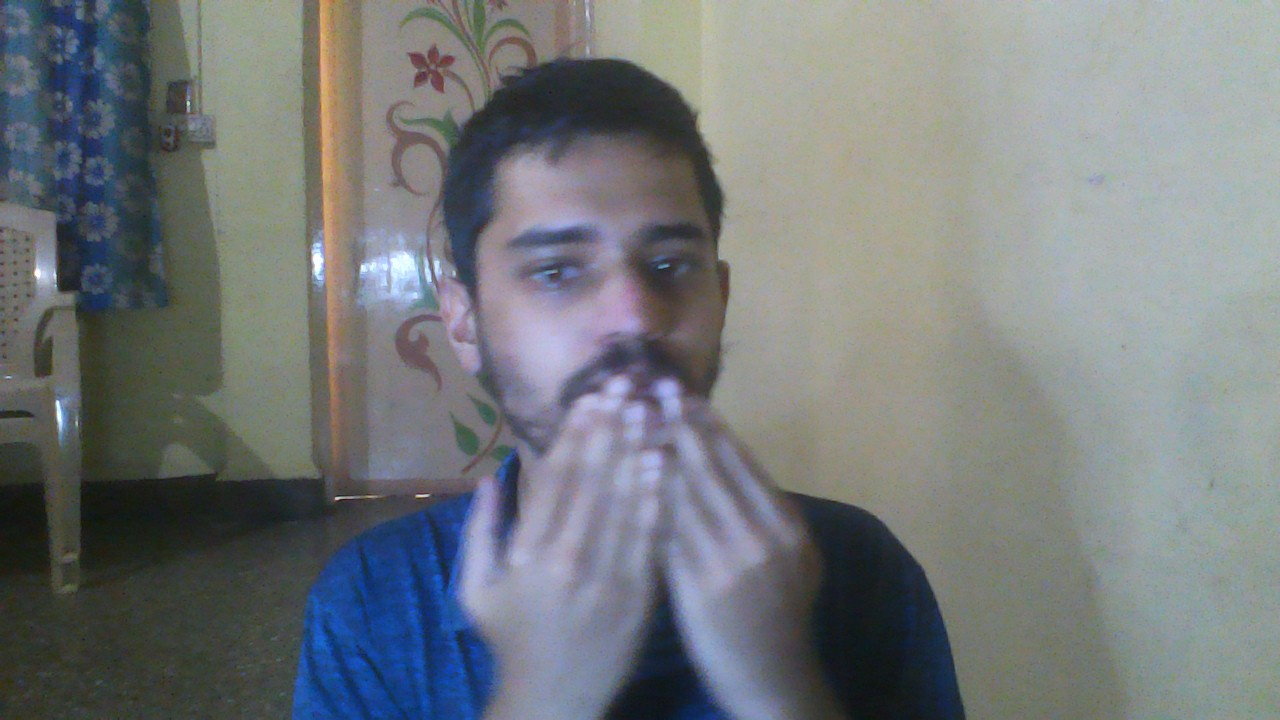thanks: (381, 335, 927, 720)
